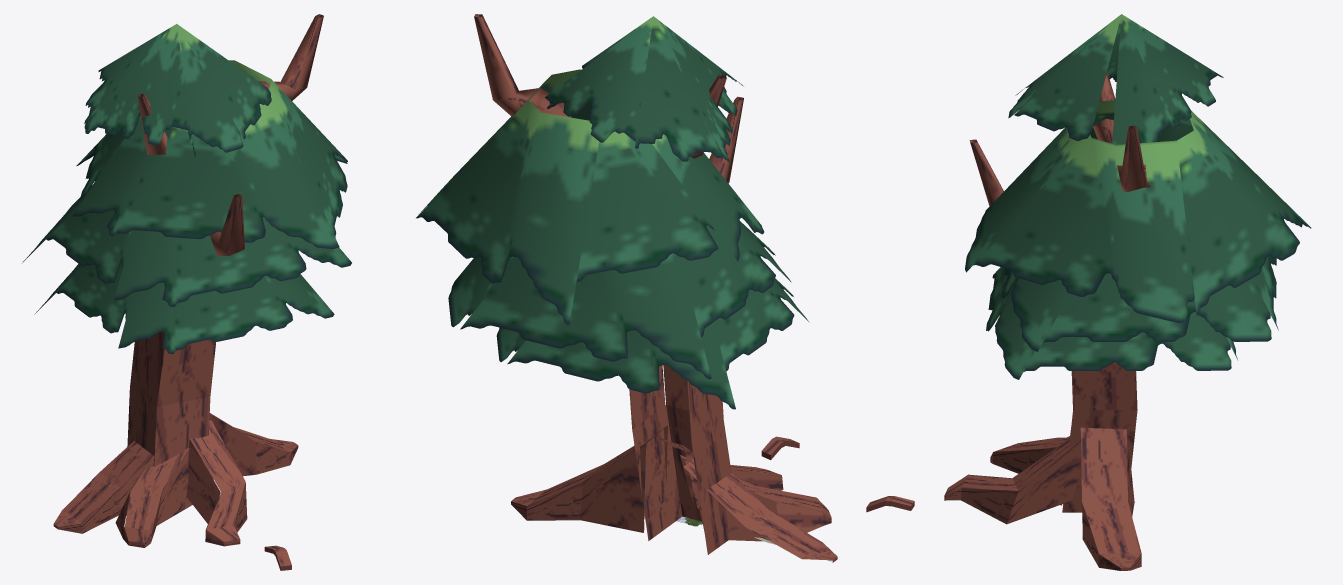
Rendered from Arvore3.fbx.
The picture shows the model from 3 angles, left to right: view 1: azimuth 30°, elevation 25°; view 2: azimuth 150°, elevation 25°; view 3: azimuth 270°, elevation 25°; orthographic projection. The views are drawn at different scales.
Parts seen in each view (by area): view 1: Cube.005, Arvore3; view 2: Cube.005, Arvore3; view 3: Cube.005, Arvore3.
Part boxes in pixels (x1,y1,x2,y2): Cube.005: (22,14,351,354); Arvore3: (53,332,298,570); Cube.005: (416,14,809,409); Arvore3: (511,365,837,562); Cube.005: (965,14,1311,379); Arvore3: (866,362,1141,570).
Size of the model in its own units: 1155 by 1265 by 1513.
